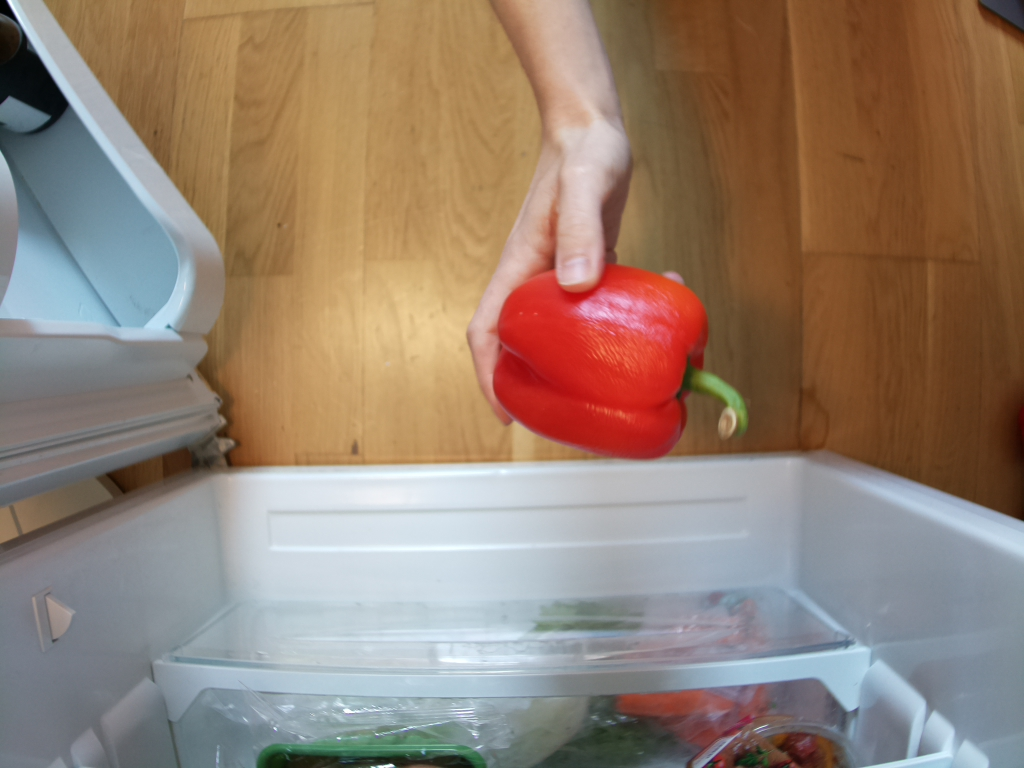pepper-bad: (487, 256, 757, 465)
